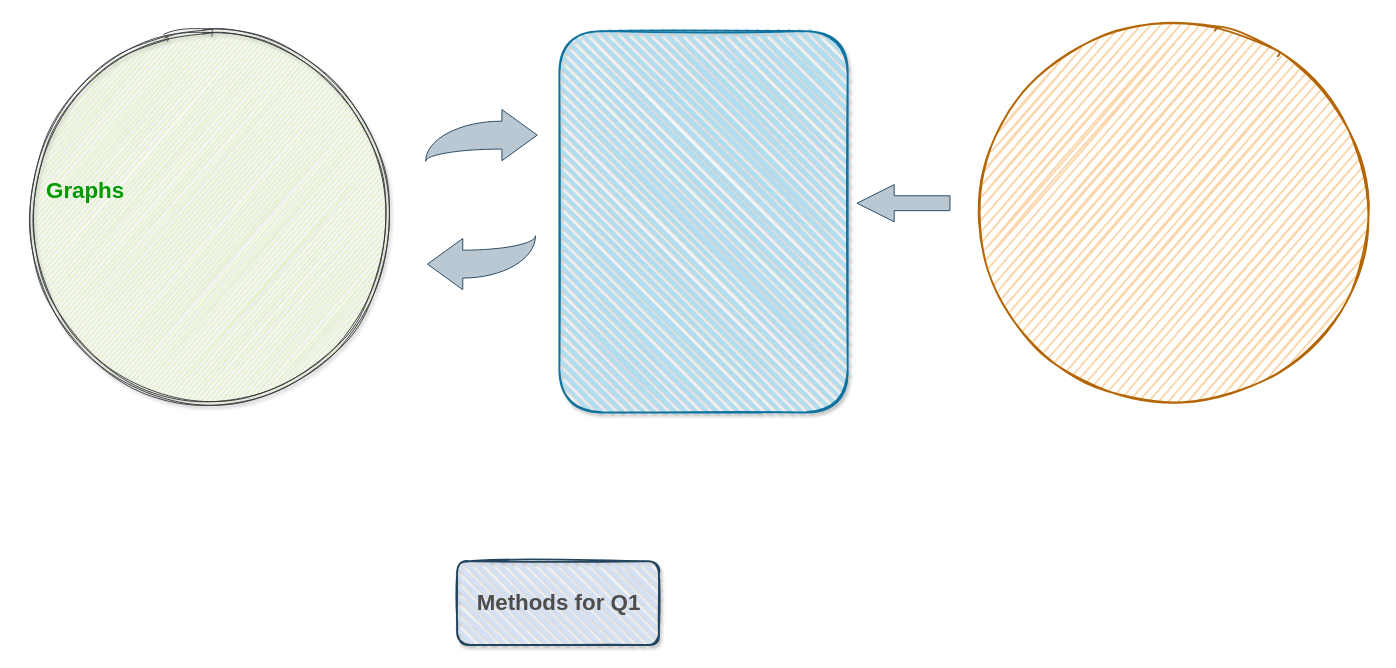
The diagram is 1396 pixels wide and 668 high, and some of its shapes have lost their labels. The centre of each missing label's shape, as x and y in pixels:
Features and properties: the point at 1173,212
Methods for Q2: the point at 704,222
